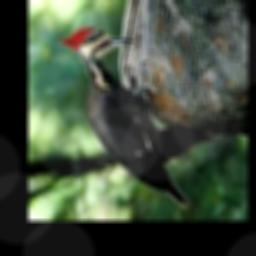Woodpecker: (60, 28, 192, 207)
